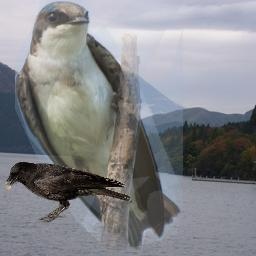Crow: (3, 161, 131, 223)
Swallow: (15, 0, 183, 252)
